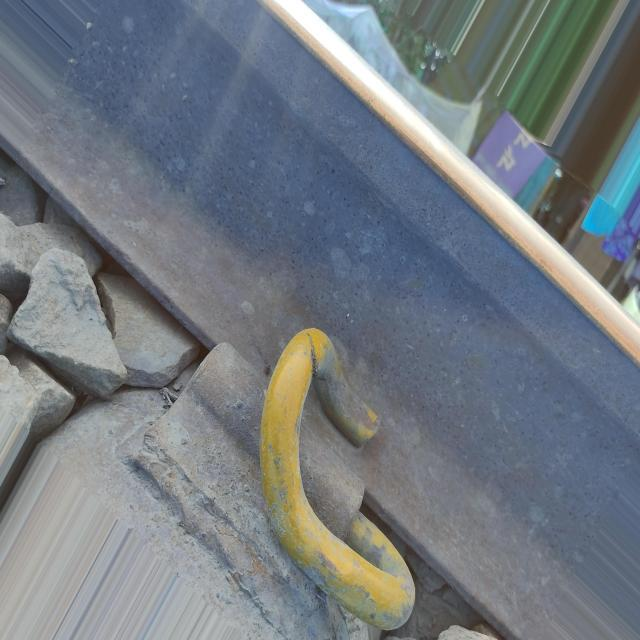Good Fasteners: (133, 315, 425, 637)
